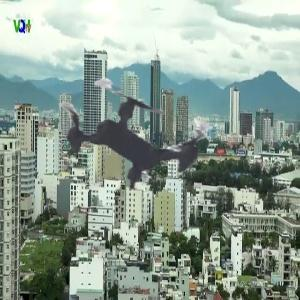drone: (12, 24, 245, 257)
